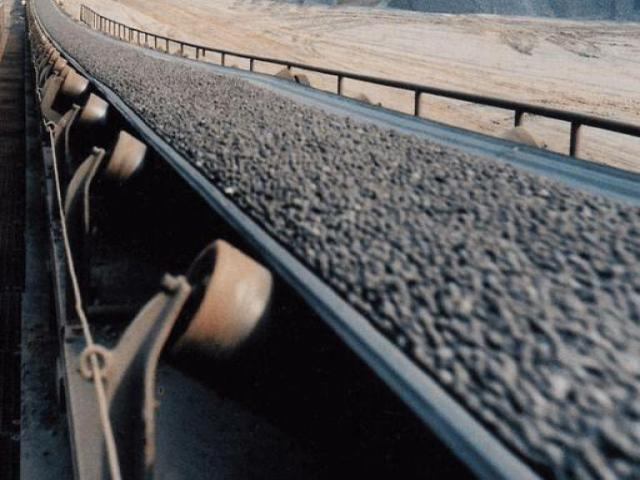conveyor: (17, 0, 638, 479)
